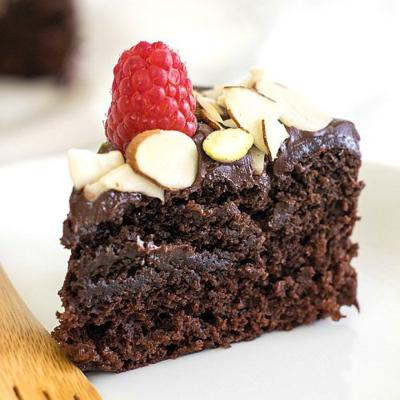cake: (52, 69, 364, 374)
